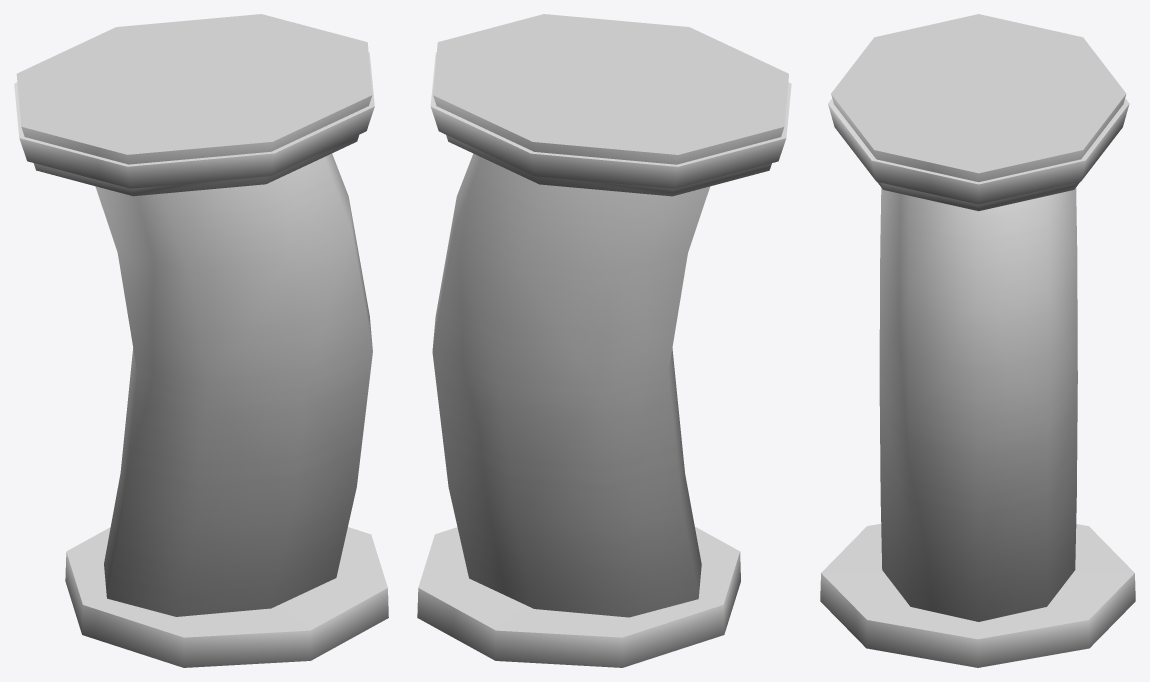
Rendered from stone_grip_065.glb.
The picture shows the model from 3 angles, left to right: view 1: azimuth 30°, elevation 25°; view 2: azimuth 150°, elevation 25°; view 3: azimuth 270°, elevation 25°; orthographic projection. The views are drawn at different scales.
Parts seen in each view (by area): view 1: stone_grip.065; view 2: stone_grip.065; view 3: stone_grip.065.
Part boxes in pixels (left/top/right/bottom): stone_grip.065: left=14, top=14, right=388, bottom=667; stone_grip.065: left=417, top=14, right=791, bottom=667; stone_grip.065: left=820, top=14, right=1135, bottom=667.
Bounding box in the file's own units: 2.48 × 3.51 × 2.04.
Materials: 1 (1 with a texture image).
